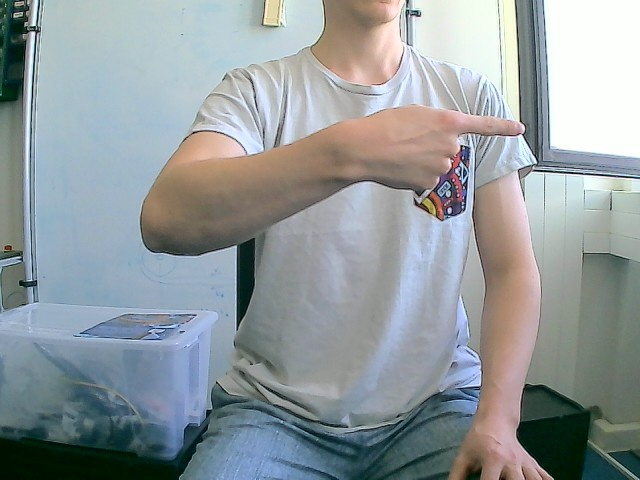left: (353, 103, 527, 195)
